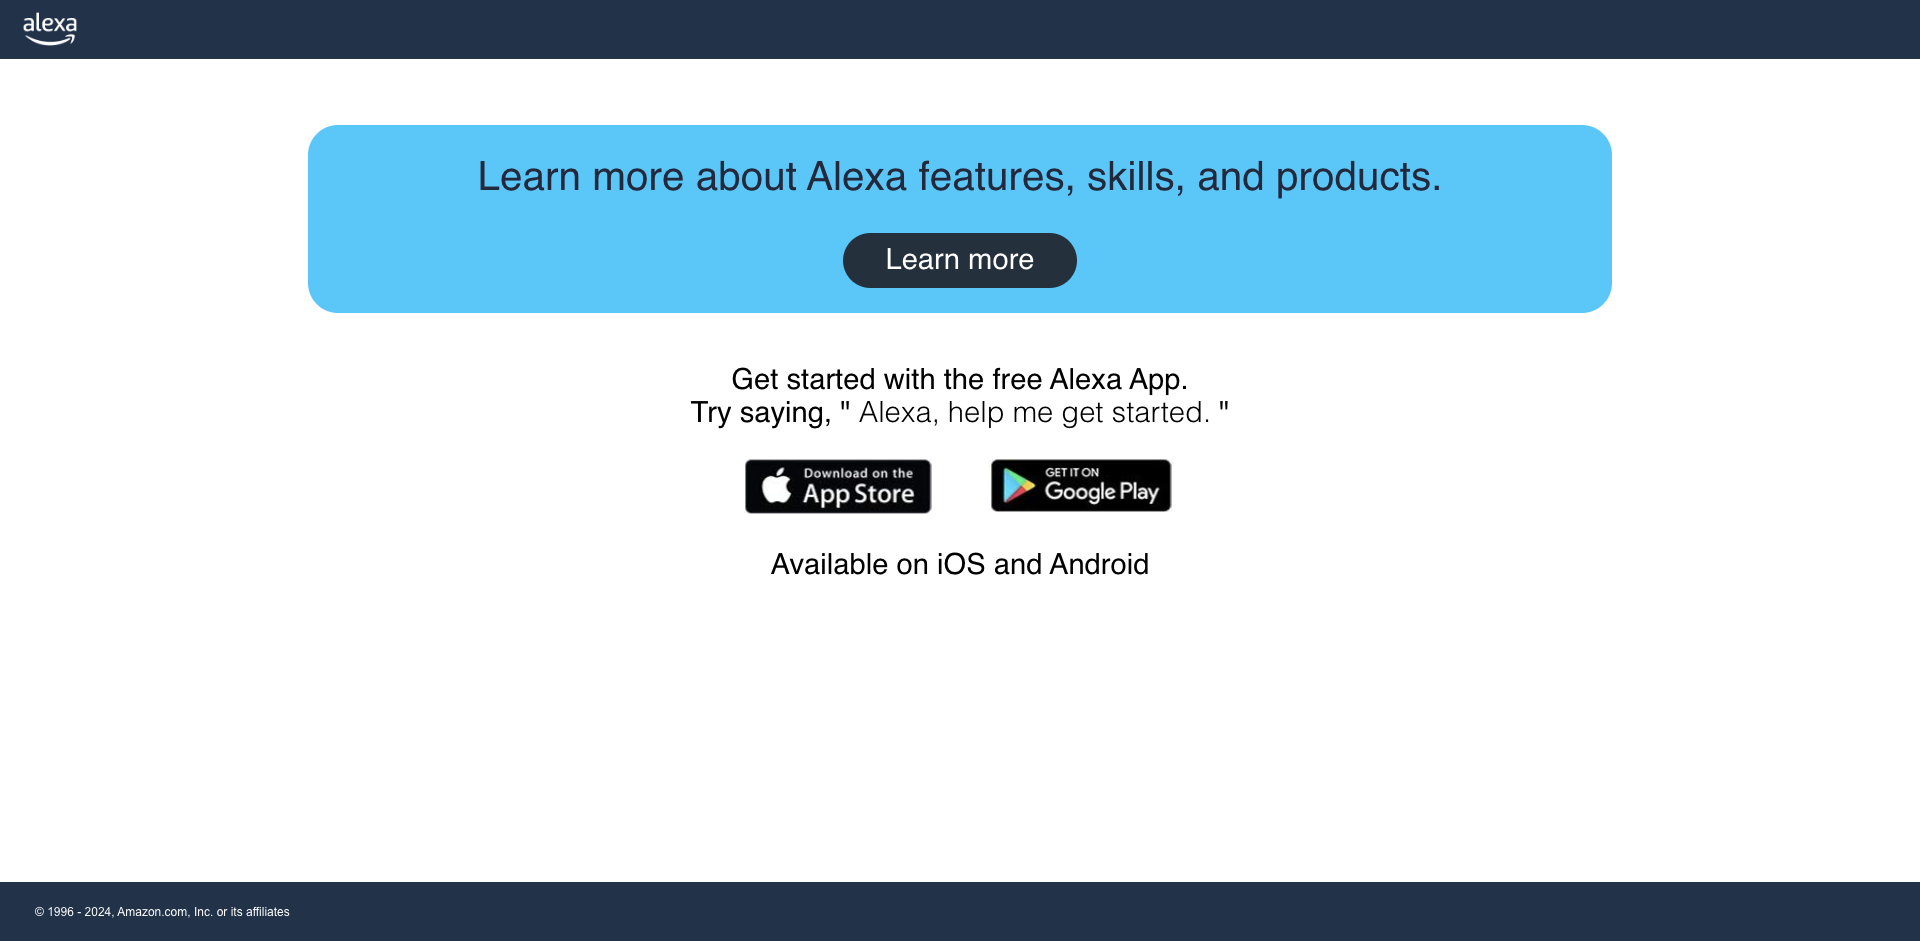link: (309, 458, 932, 518), (988, 458, 1611, 516), (842, 233, 1078, 288), (0, 39, 100, 56)
